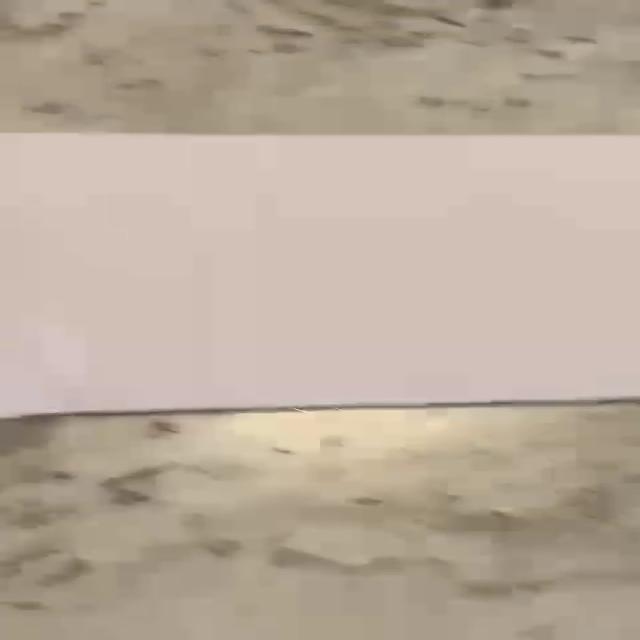road: (3, 133, 637, 415)
